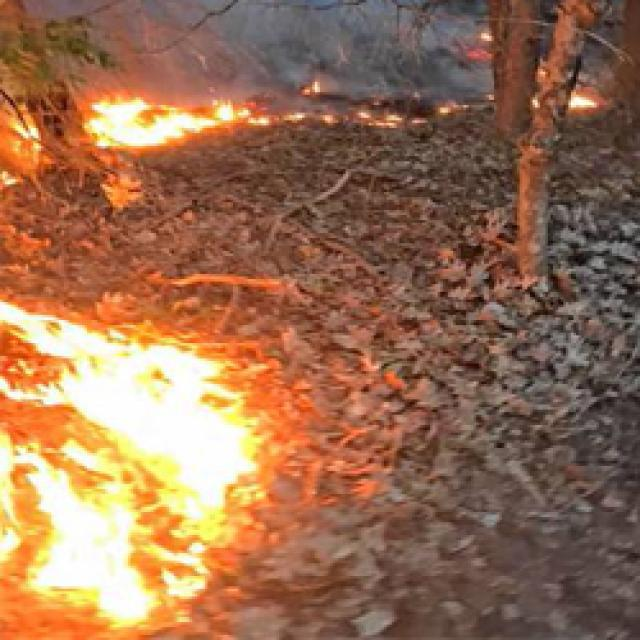Fire: (0, 281, 322, 640), (0, 90, 306, 190), (304, 76, 461, 132), (528, 85, 600, 114), (461, 23, 501, 70)
Smoke: (76, 0, 464, 72)
